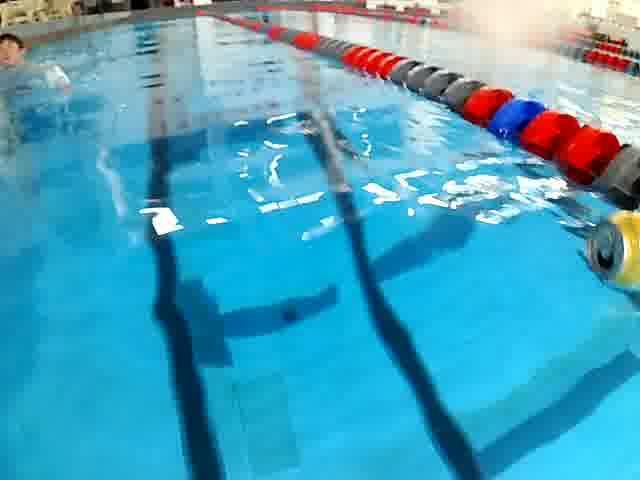Can: (568, 204, 640, 294)
